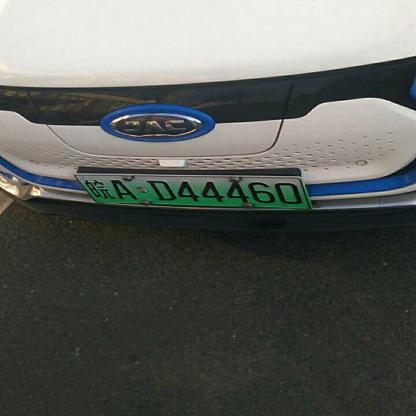lp: (76, 175, 312, 208)
